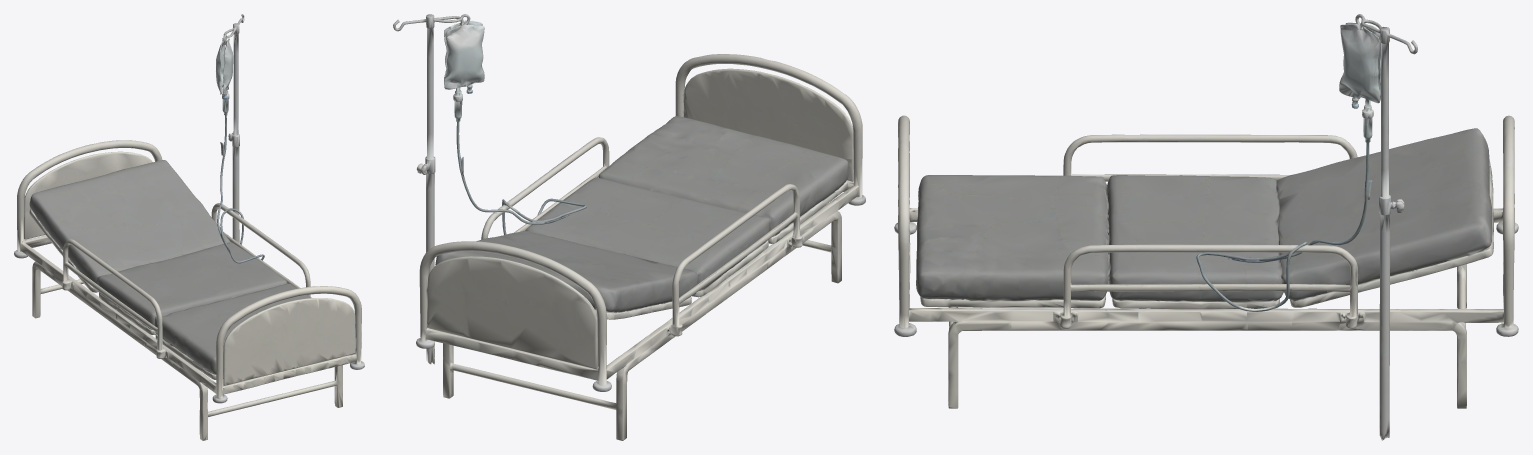
Rendered from ward-bed.glb.
3 views of the same model, side by side, from view 1: azimuth 30°, elevation 25°; view 2: azimuth 150°, elevation 25°; view 3: azimuth 270°, elevation 25° (orthographic). The views are drawn at different scales.
Parts seen in each view (by area): view 1: mesh_node; view 2: mesh_node; view 3: mesh_node.
Part boxes in pixels (bbox=[...]): mesh_node: bbox=[14, 14, 364, 440]; mesh_node: bbox=[393, 14, 865, 440]; mesh_node: bbox=[894, 14, 1518, 440].
Size of the model in its own units: 1.09 by 1.39 by 1.9.
1 material, 1 textured.
